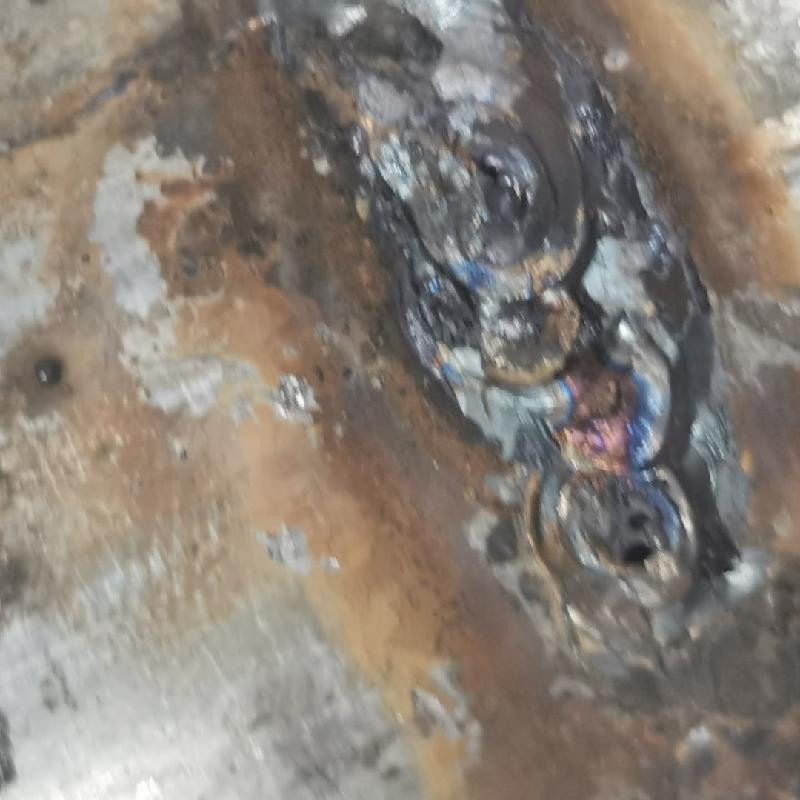Surface_pores: (612, 496, 670, 575), (456, 135, 519, 196)
